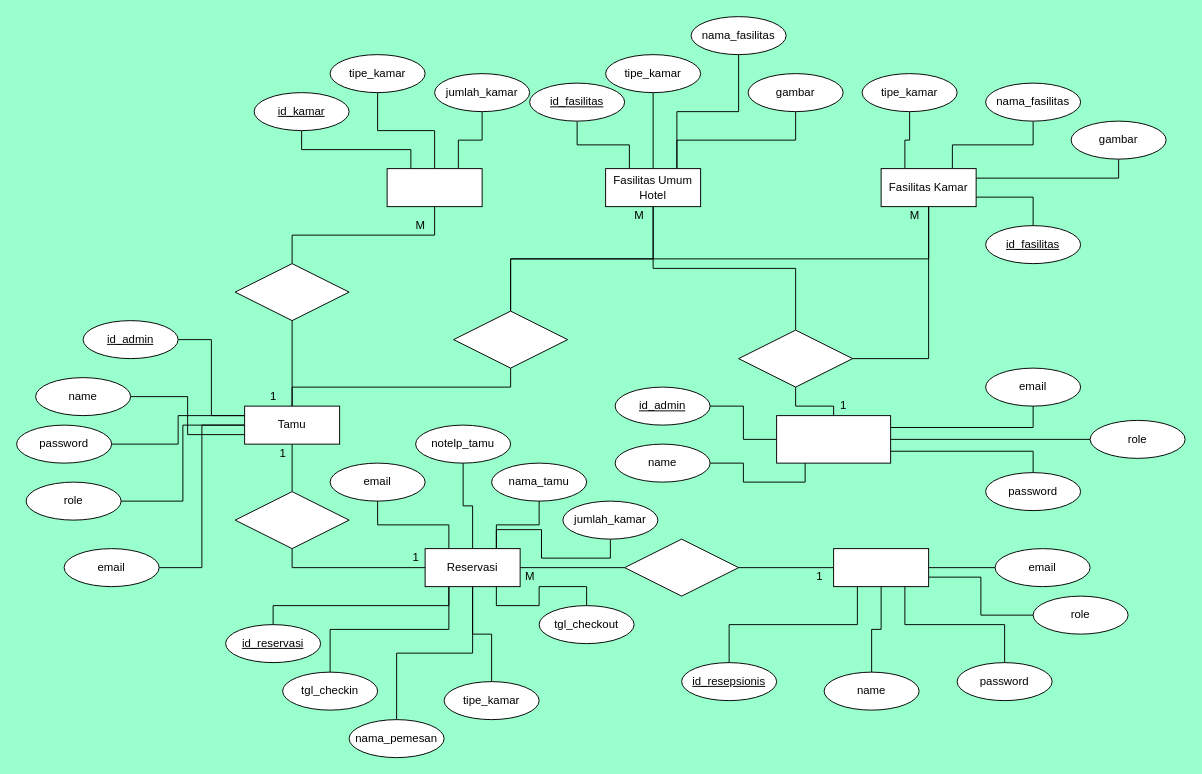
The diagram is 1202 pixels wide and 774 high, and some of its shapes have lost their labels. Here are the shapes that lost their labels. From the top down, the box of each, then its label:
(386, 168, 482, 207): Kamar
(234, 263, 349, 321): Pesan
(453, 310, 568, 368): Lihat
(738, 329, 853, 387): Kelola
(776, 415, 891, 463): Administrator
(234, 491, 349, 549): Cetak
(624, 538, 739, 596): Cari
(833, 548, 929, 587): Resepsionis
